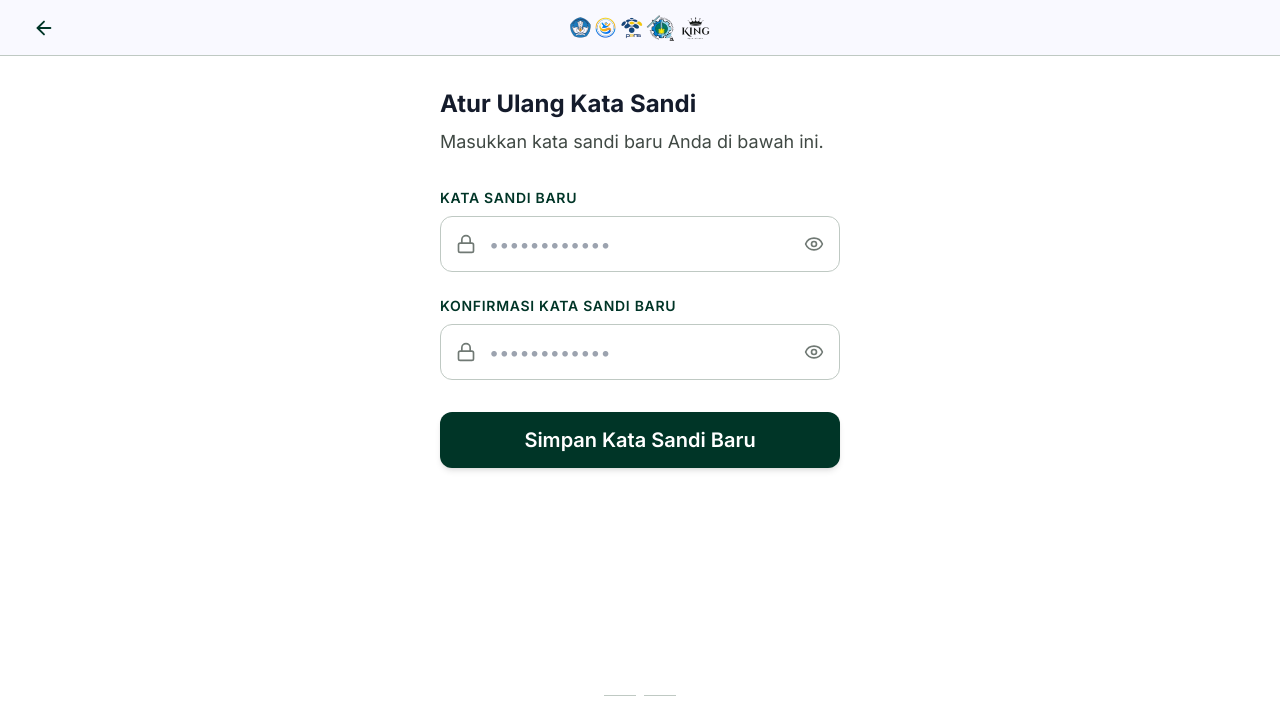
Test case: TASK-0213 Reset Password UI Component › displays server error banner when reset fails
In the password field labelled "Kata Sandi Baru": point(640, 244) [440, 216, 840, 272], type "SuperSecret123!"
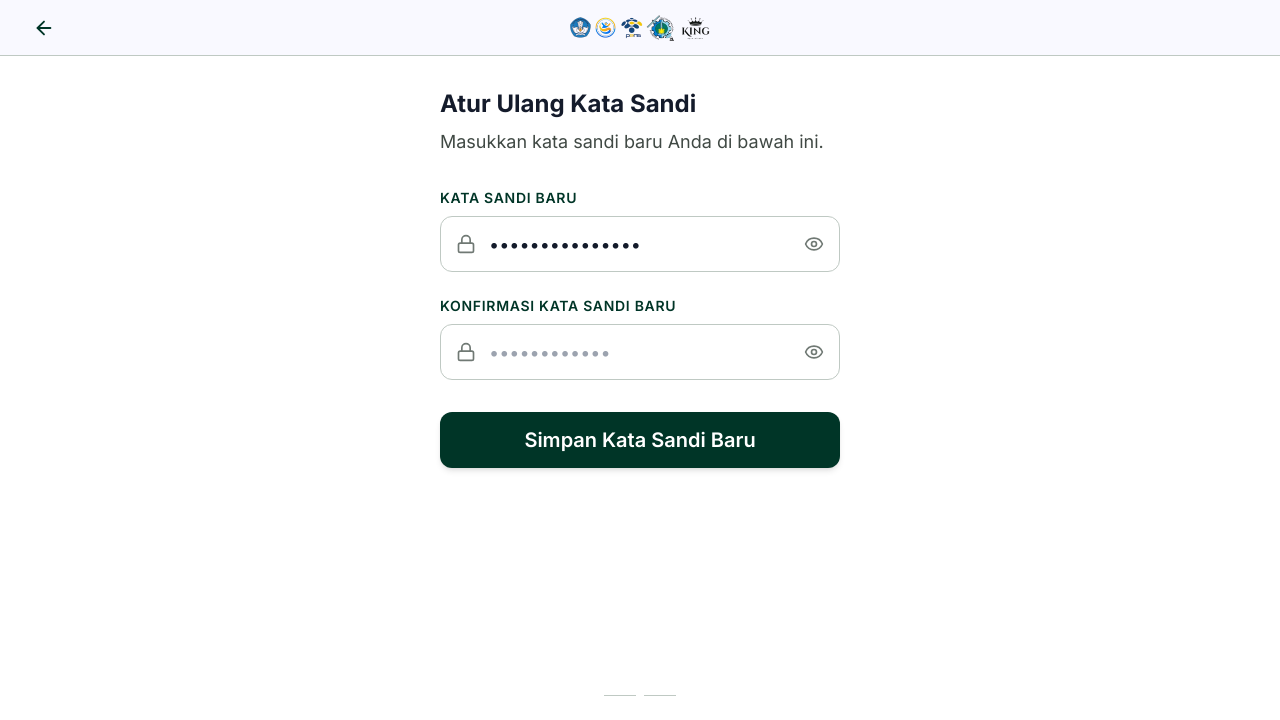
In the password field labelled "Konfirmasi Kata Sandi Baru": point(640, 352) [440, 324, 840, 380], type "SuperSecret123!"
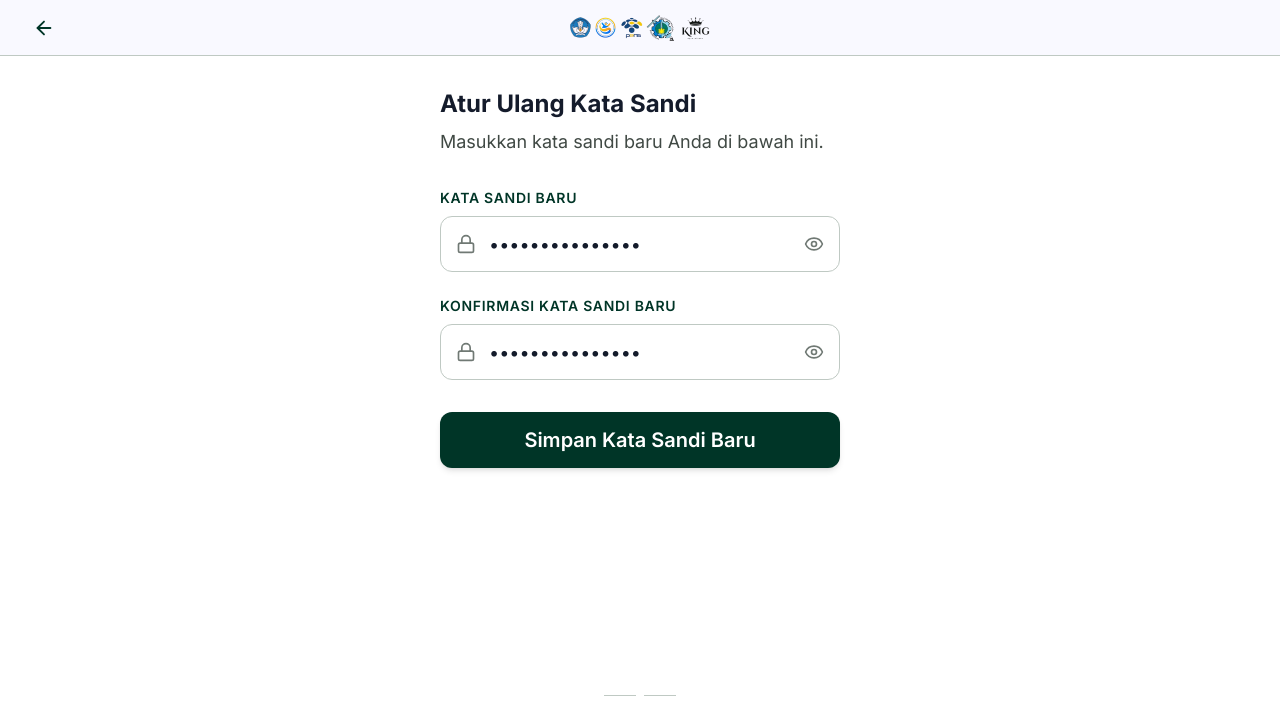
Click the button "Simpan Kata Sandi Baru": point(640, 440) [440, 412, 840, 468]
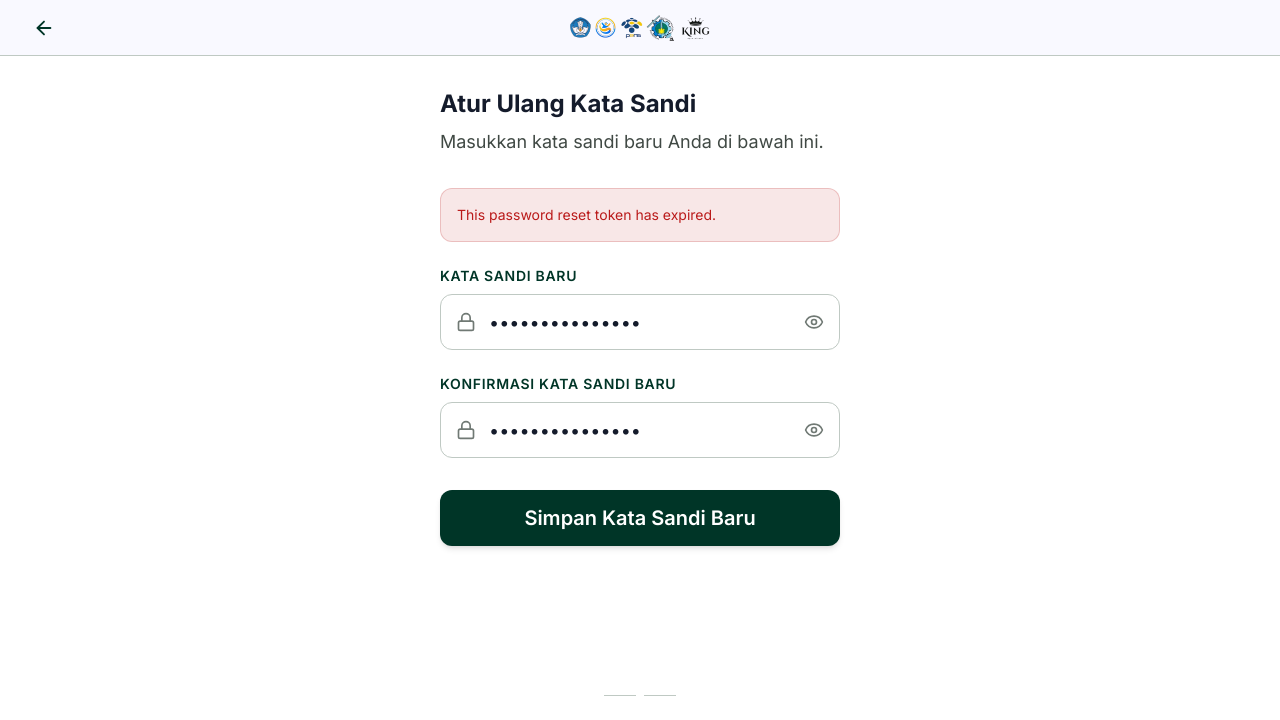
Result: the message shows "This password reset token has expired" at [457, 206, 716, 223]
